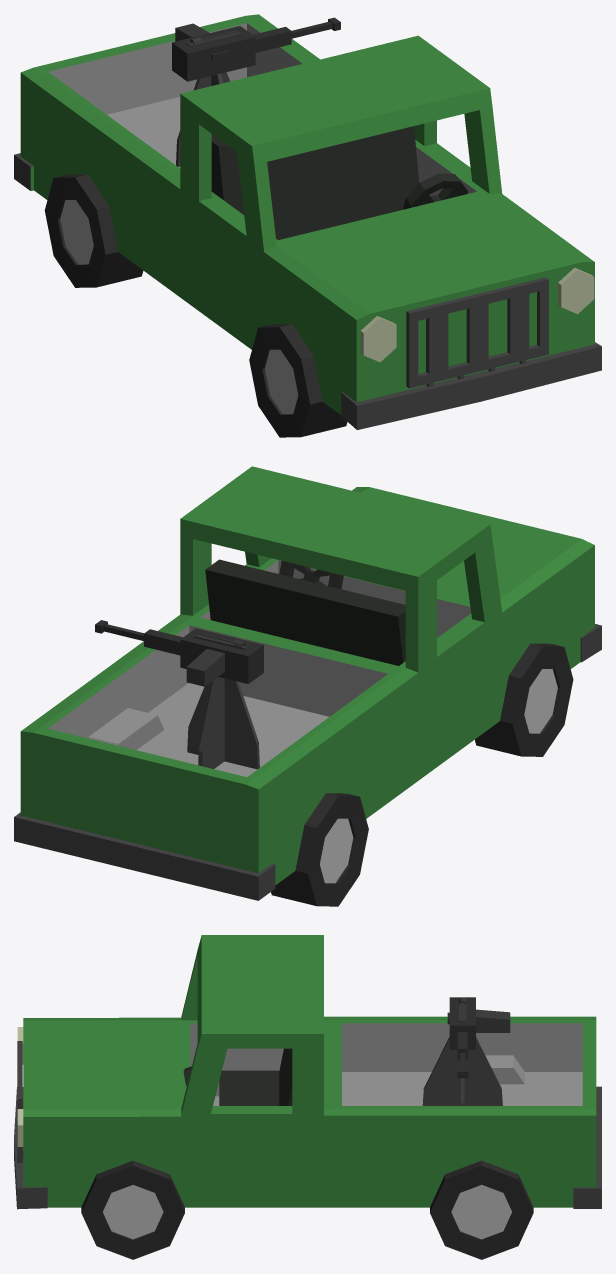
Rendered from Car.fbx.
3 renders of one model, top to bottom at view 1: azimuth 30°, elevation 25°; view 2: azimuth 150°, elevation 25°; view 3: azimuth 270°, elevation 25°, orthographic. The views are drawn at different scales.
Visible parts, largest first — view 1: Cube.008_Cube.012, Cube.006_Cube.010, Circle, Circle.002, Cube.003_Cube.004; view 2: Cube.008_Cube.012, Circle.002, Circle, Cube.003_Cube.004; view 3: Cube.008_Cube.012, Circle.001, Circle.003, Cube.003_Cube.004, Cube.006_Cube.010.
Boxes of the visible parts, x1,y1,x2,y2 form: Cube.008_Cube.012: [14, 14, 601, 429]; Cube.006_Cube.010: [406, 277, 548, 388]; Circle: [44, 174, 143, 287]; Circle.002: [249, 324, 347, 437]; Cube.003_Cube.004: [172, 17, 340, 81]; Cube.008_Cube.012: [14, 466, 601, 900]; Circle.002: [475, 643, 573, 756]; Circle: [271, 793, 368, 906]; Cube.003_Cube.004: [95, 620, 263, 686]; Cube.008_Cube.012: [14, 935, 601, 1209]; Circle.001: [81, 1160, 184, 1259]; Circle.003: [430, 1160, 533, 1259]; Cube.003_Cube.004: [447, 997, 510, 1078]; Cube.006_Cube.010: [17, 1041, 22, 1162].
Size of the model in its own units: 323 by 304 by 734.
